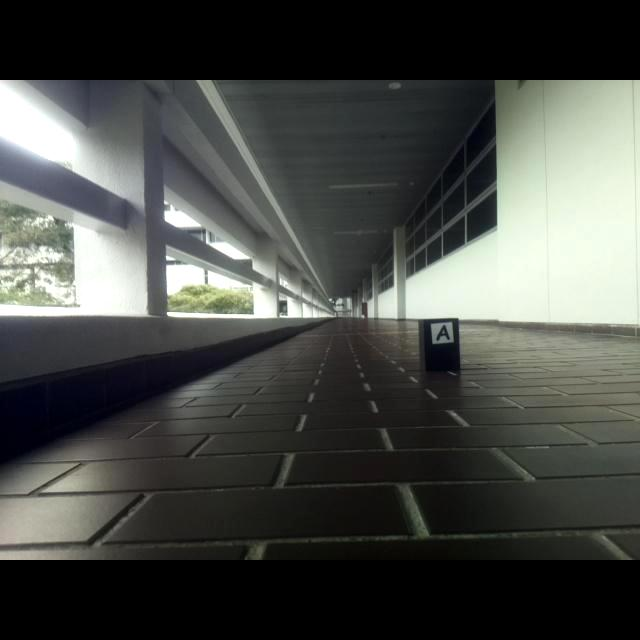A: (436, 325, 450, 341)
